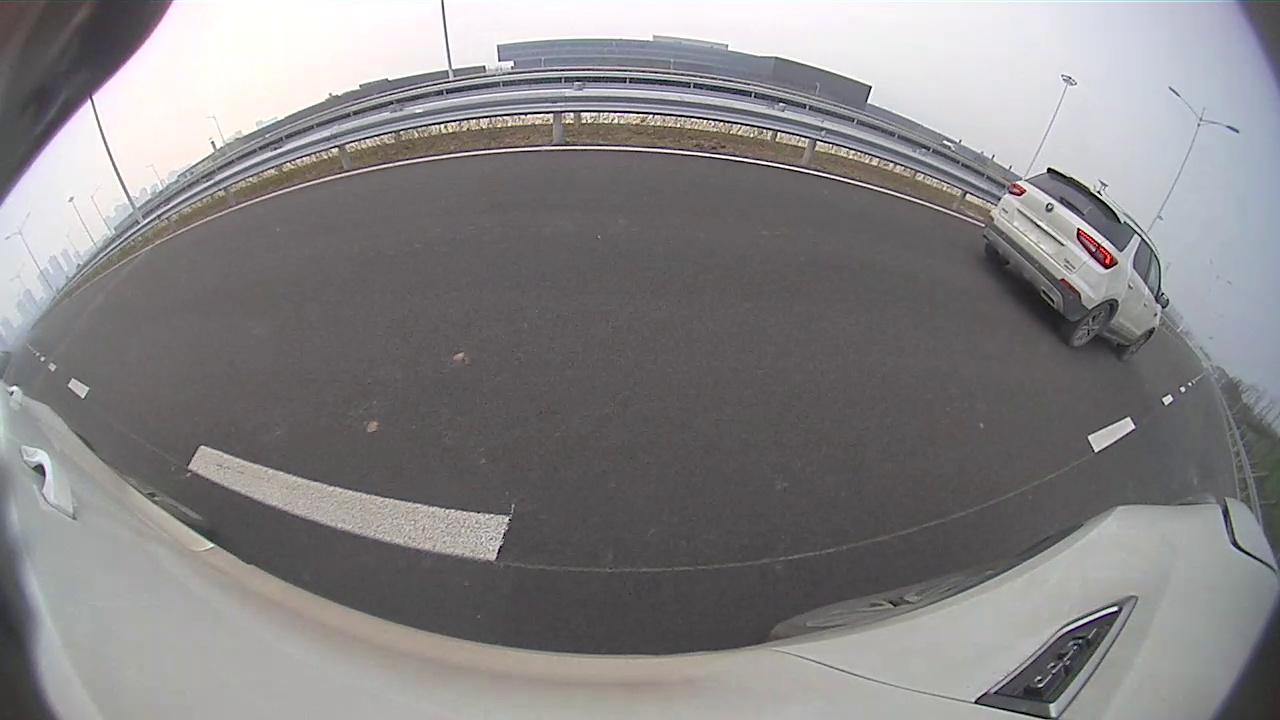car: (985, 169, 1166, 359)
rear: (1068, 301, 1114, 352)
